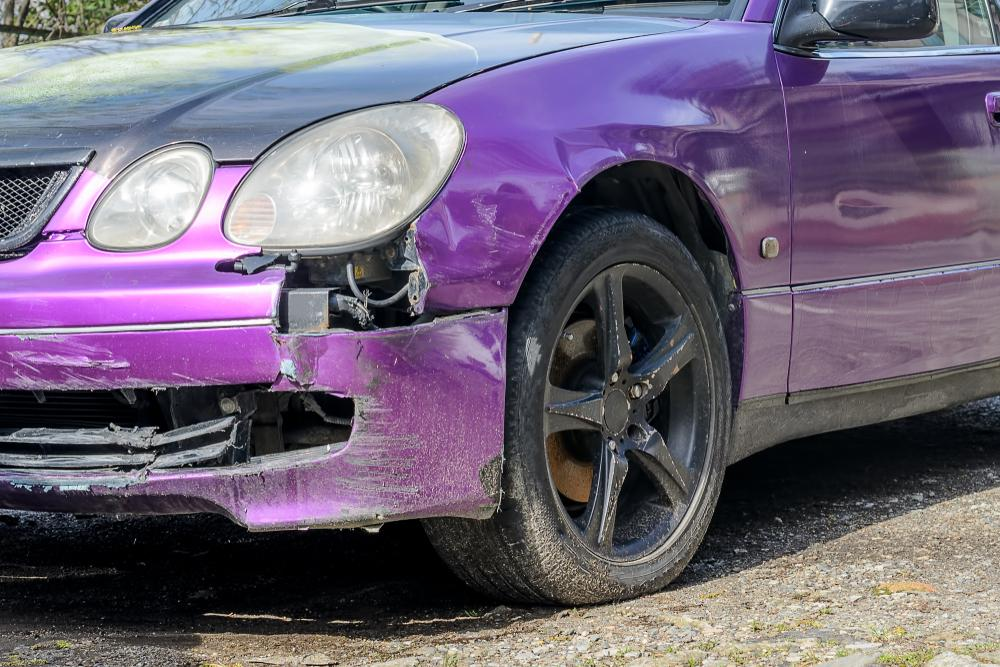crack: (271, 330, 284, 391)
dent: (419, 127, 702, 300), (839, 191, 892, 220)
scratch: (0, 330, 204, 390), (334, 396, 420, 516)
